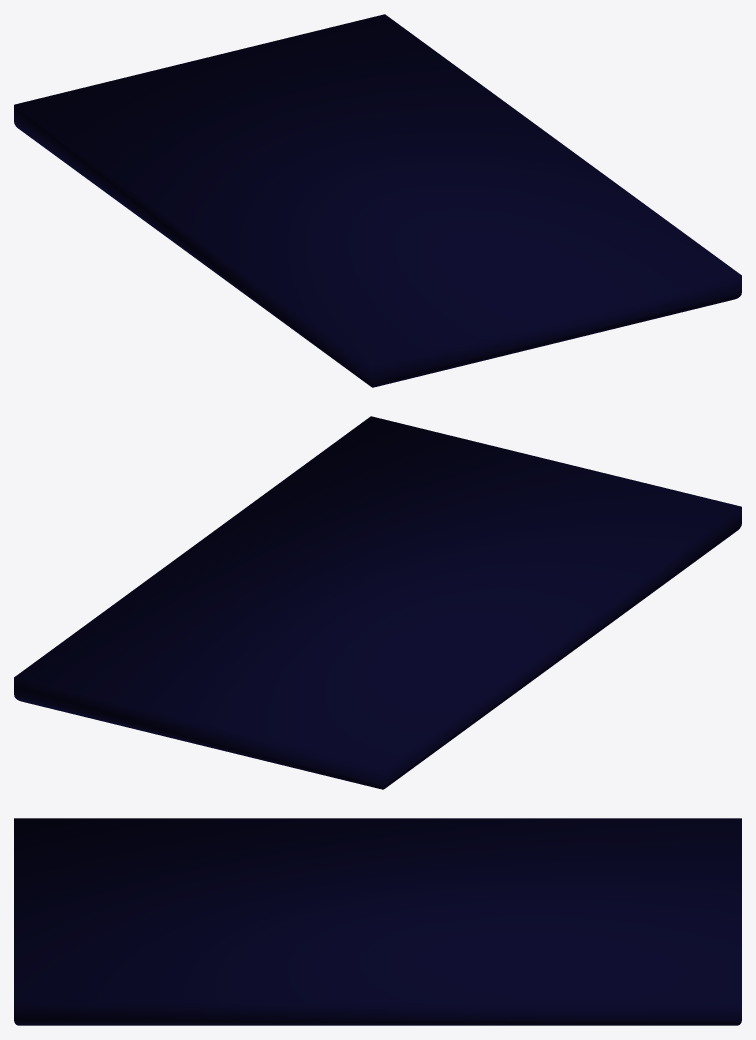
The model's file is plate.dae.
The picture shows the model from 3 angles, top to bottom: view 1: azimuth 30°, elevation 25°; view 2: azimuth 150°, elevation 25°; view 3: azimuth 270°, elevation 25°; orthographic projection.
Visible parts, largest first — view 1: Plate; view 2: Plate; view 3: Plate.
Part boxes in pixels (left/top/right/bottom): Plate: left=14, top=14, right=741, bottom=387; Plate: left=14, top=416, right=741, bottom=789; Plate: left=14, top=818, right=741, bottom=1025.
Bounding box in the file's own units: 0.3 × 0.5 × 0.02.
